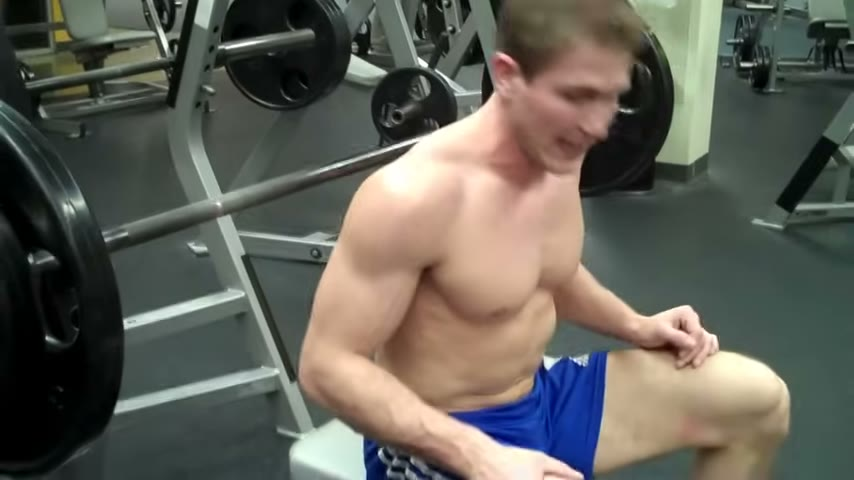barbell_plate_side: (0, 0, 149, 478)
